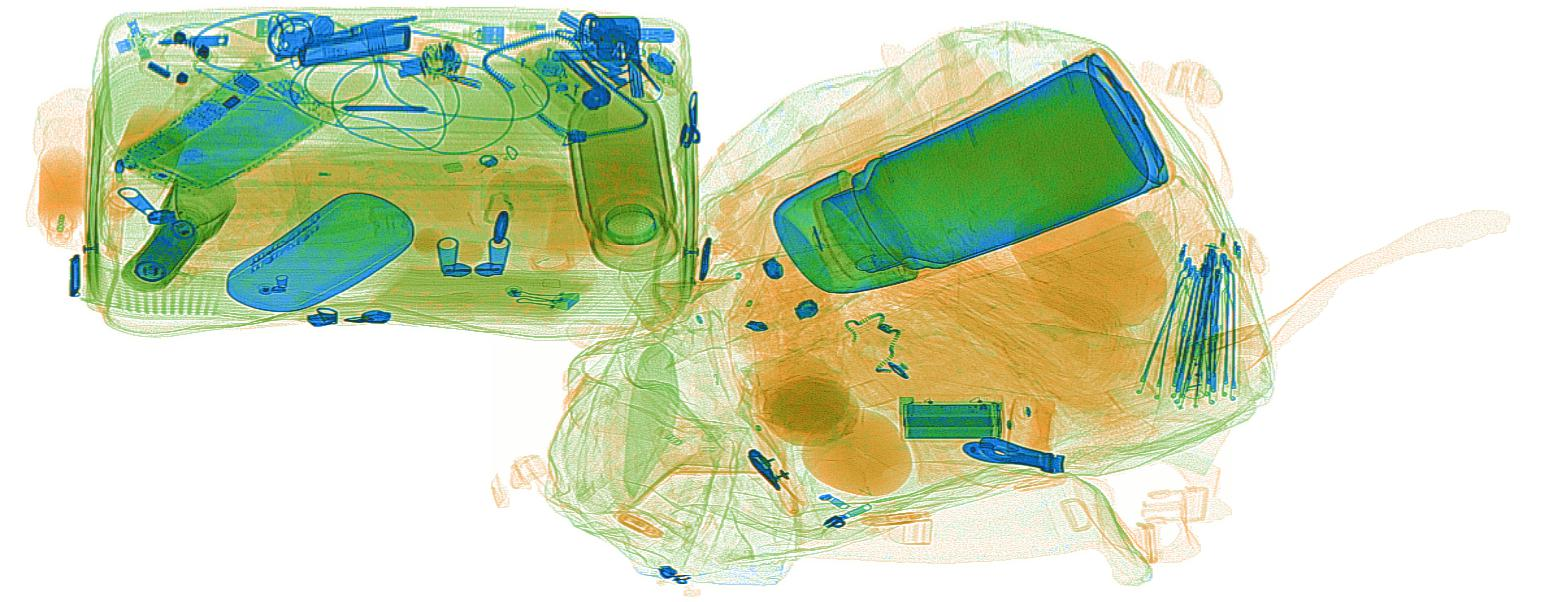battery: (132, 217, 195, 284), (899, 402, 1004, 439)
plasticBottleWithaNozzle: (37, 148, 94, 247)
